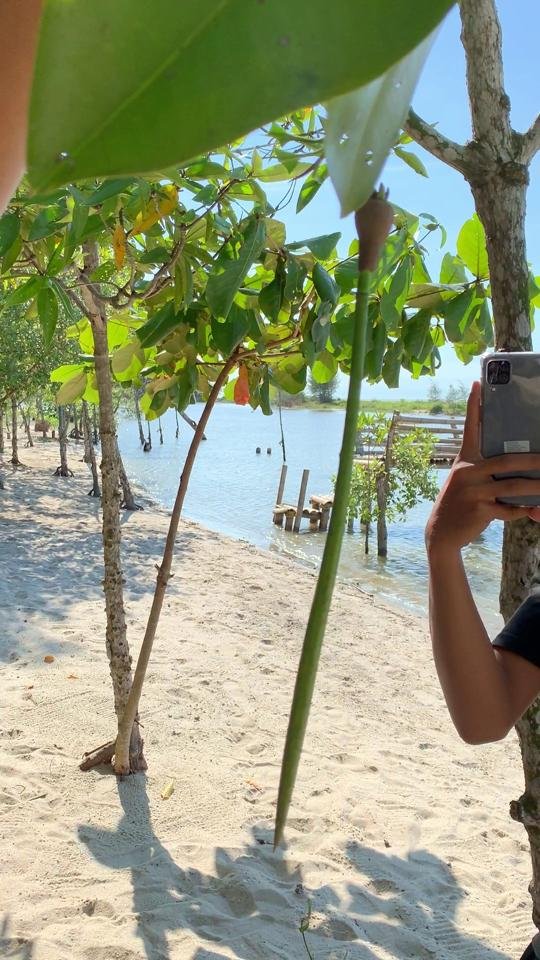setengah matang: (267, 178, 401, 856)
